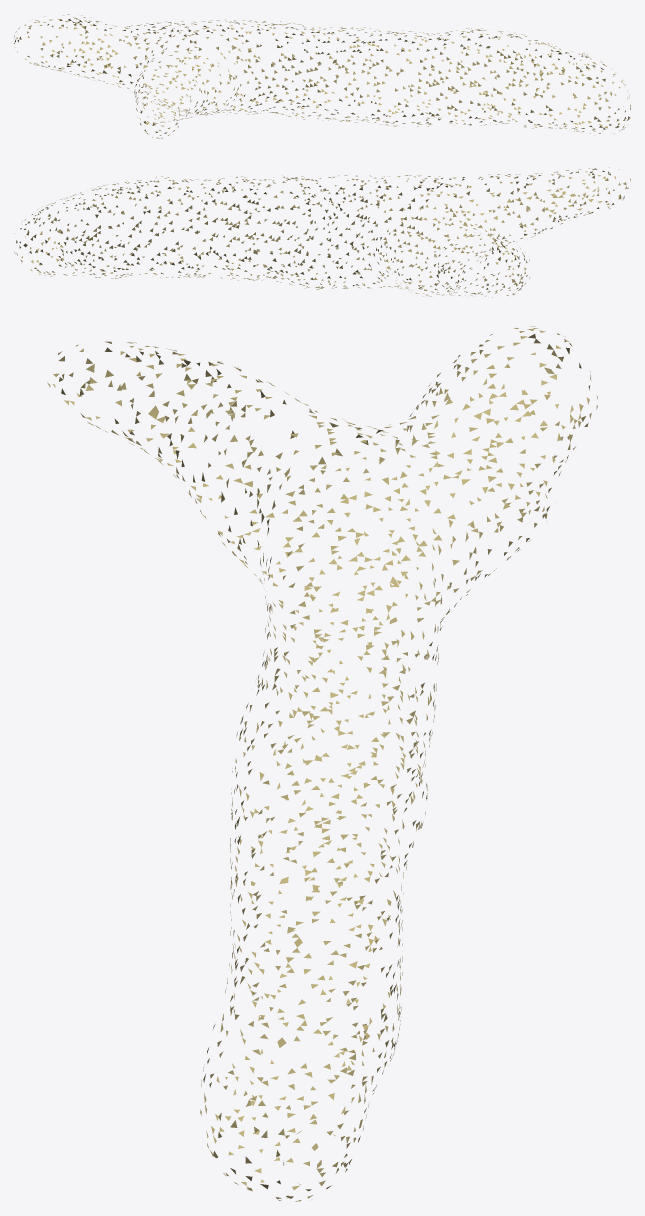
File: morph_008.glb
3 renders of one model, top to bottom at view 1: azimuth 30°, elevation 25°; view 2: azimuth 150°, elevation 25°; view 3: azimuth 270°, elevation 25°, orthographic. The views are drawn at different scales.
Bounding box in the file's own units: 108 × 35.95 × 47.28.
